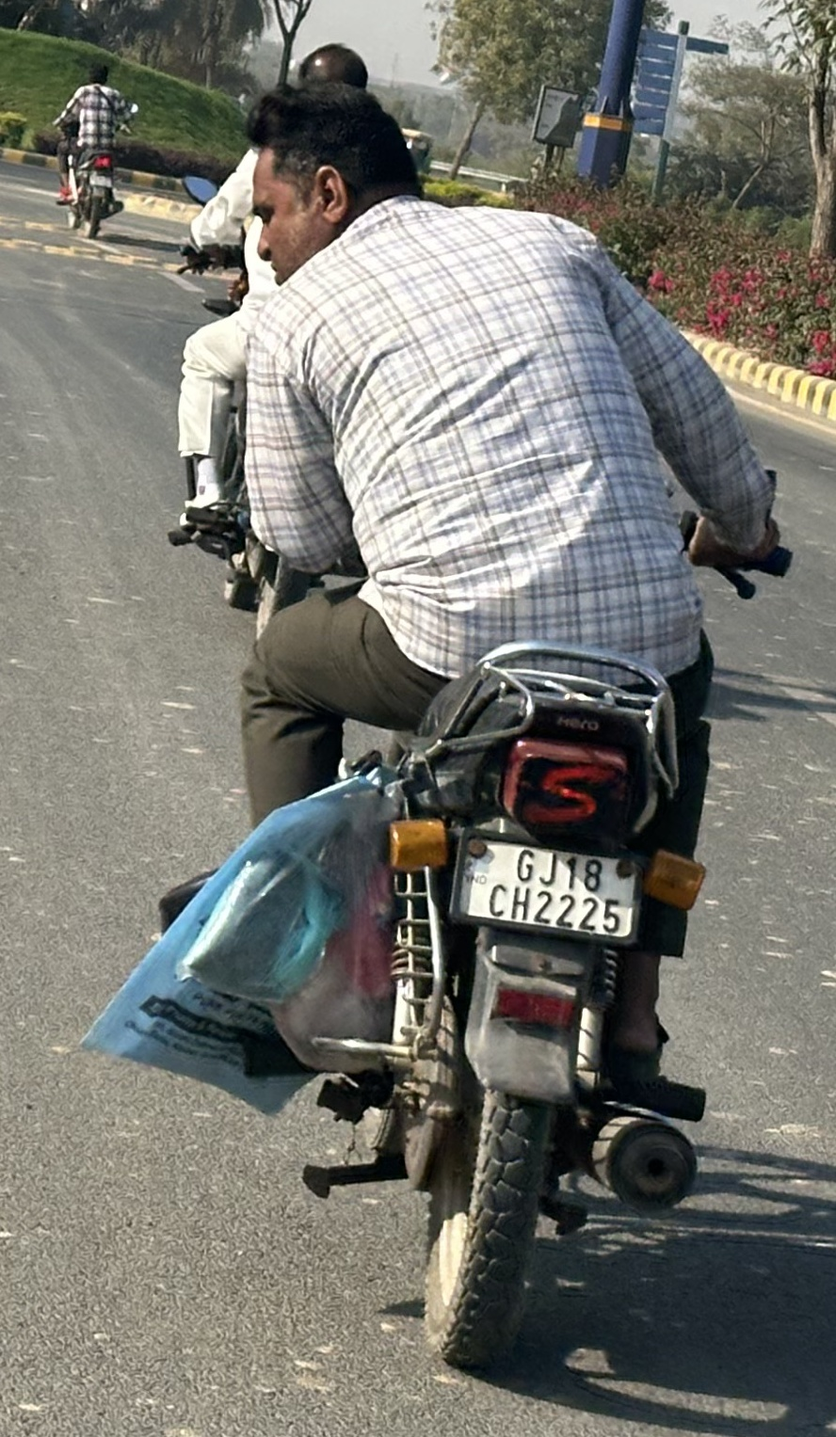BikeWithRider: (84, 71, 803, 1397), (45, 51, 144, 253)
NoHelmet: (211, 71, 453, 306)
